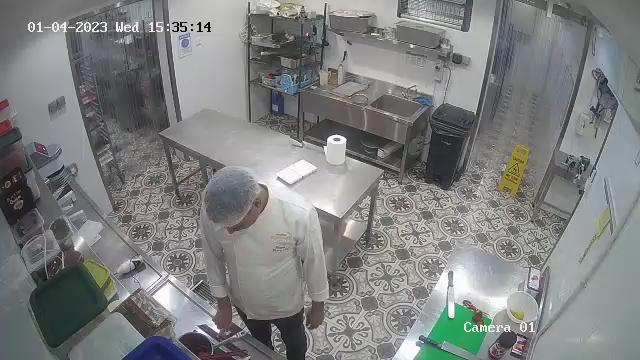no_apron: (222, 186, 316, 319)
